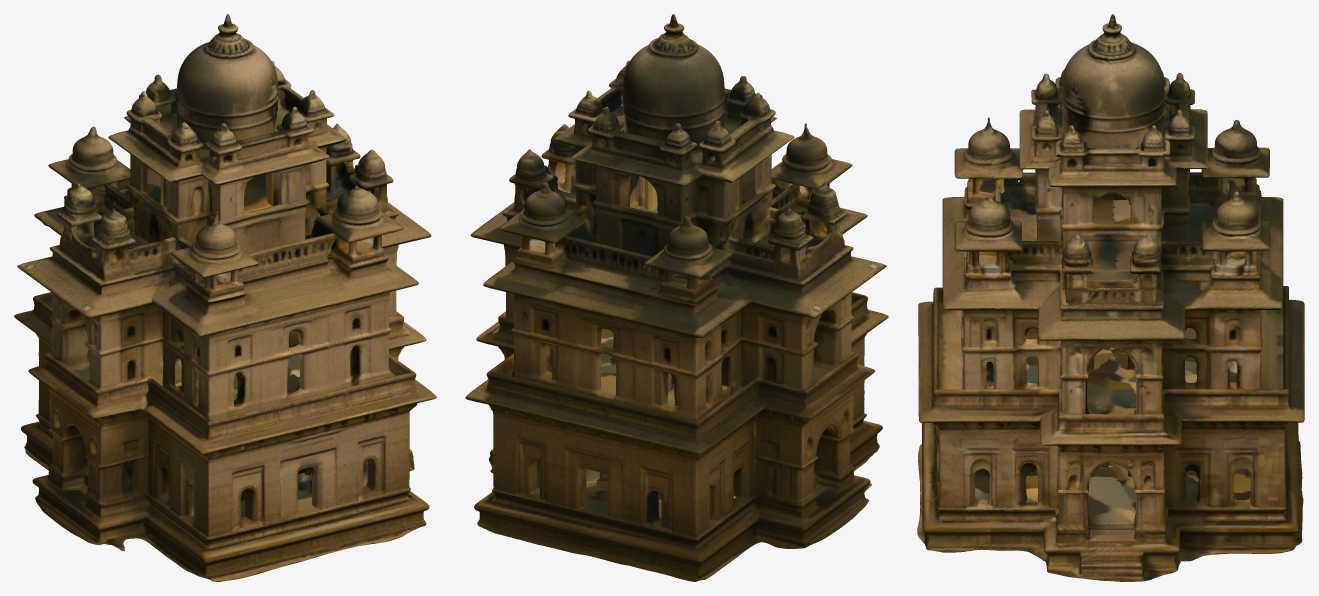
File: mahal.glb
3 renders of one model, left to right at view 1: azimuth 30°, elevation 25°; view 2: azimuth 150°, elevation 25°; view 3: azimuth 270°, elevation 25°, orthographic. The views are drawn at different scales.
Parts seen in each view (by area): view 1: tripo_node_2c6b0670-5283-4fd5-b63a-d1f3d4852a32_0; view 2: tripo_node_2c6b0670-5283-4fd5-b63a-d1f3d4852a32_0; view 3: tripo_node_2c6b0670-5283-4fd5-b63a-d1f3d4852a32_0.
Boxes of the visible parts, bbox=[...] form: tripo_node_2c6b0670-5283-4fd5-b63a-d1f3d4852a32_0: bbox=[14, 14, 436, 581]; tripo_node_2c6b0670-5283-4fd5-b63a-d1f3d4852a32_0: bbox=[465, 14, 888, 581]; tripo_node_2c6b0670-5283-4fd5-b63a-d1f3d4852a32_0: bbox=[917, 14, 1304, 581].
Size of the model in its own units: 0.7633 by 1 by 0.7218.
1 material, 1 textured.
